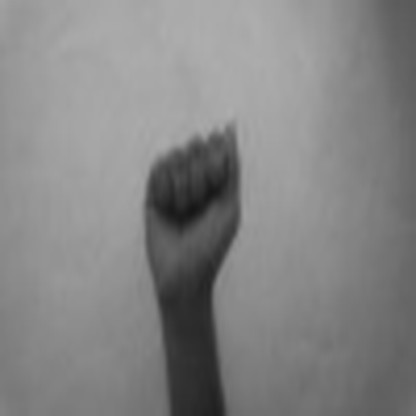a: (135, 108, 244, 291)
